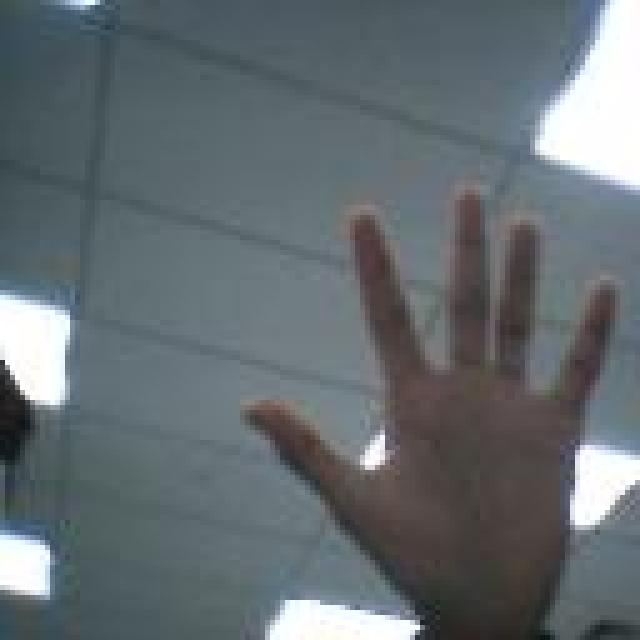hand: (238, 180, 623, 640)
